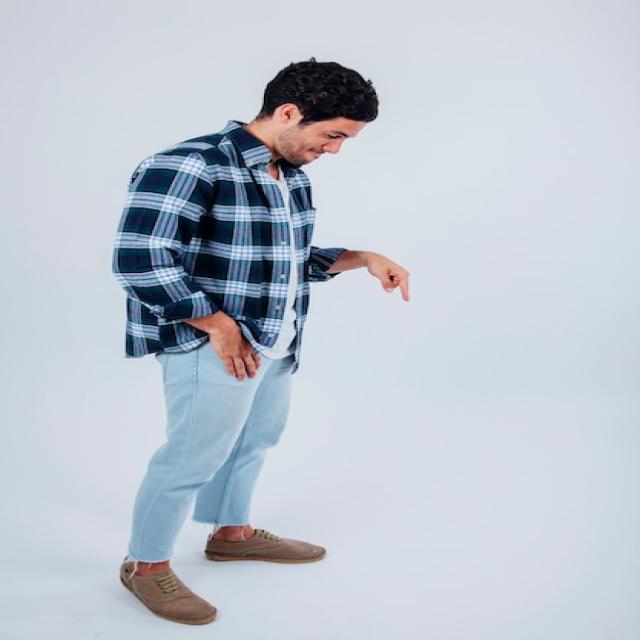Person: (111, 60, 409, 624)
